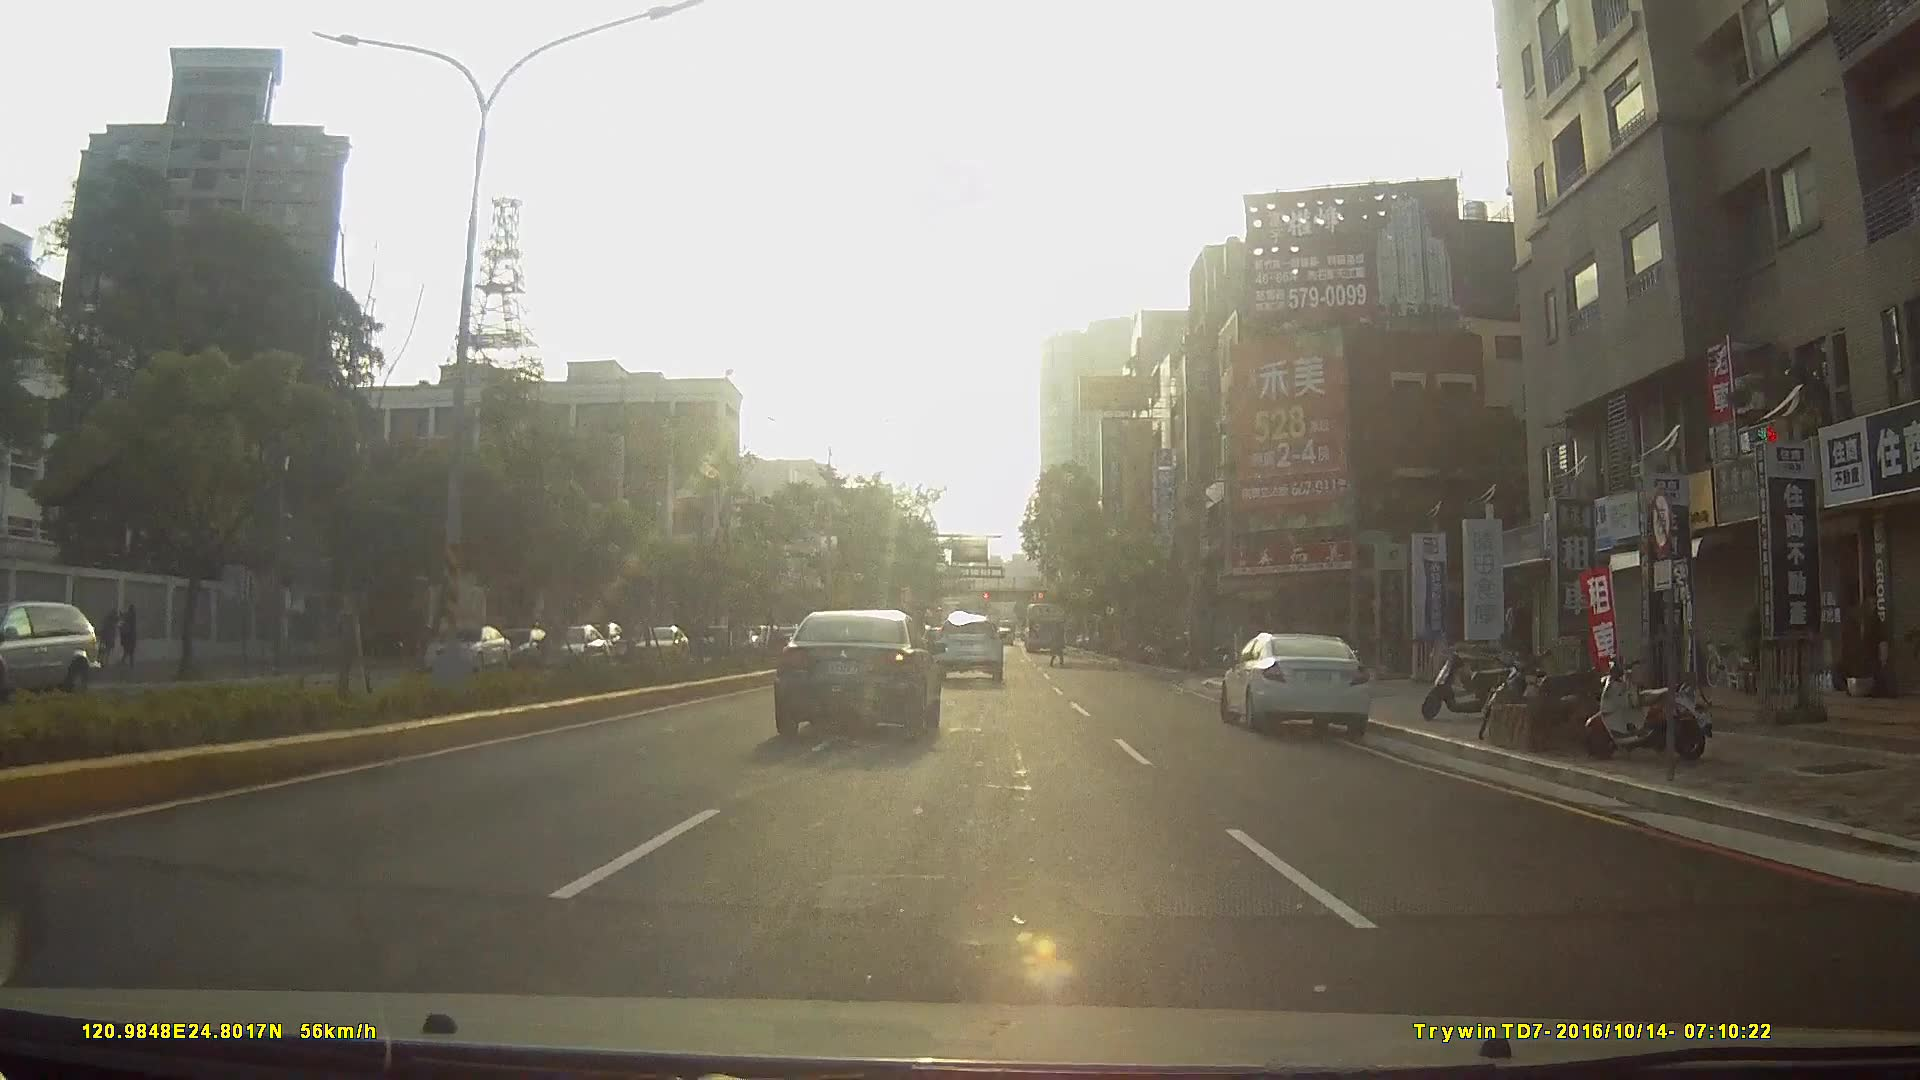pedestrian: (120, 604, 140, 671), (101, 609, 121, 670)
vehicle: (774, 604, 945, 737), (1221, 628, 1376, 738), (1, 603, 107, 706), (932, 613, 1004, 684), (537, 621, 619, 683), (415, 622, 505, 674), (621, 624, 693, 670), (489, 625, 556, 668), (1020, 600, 1066, 653)
